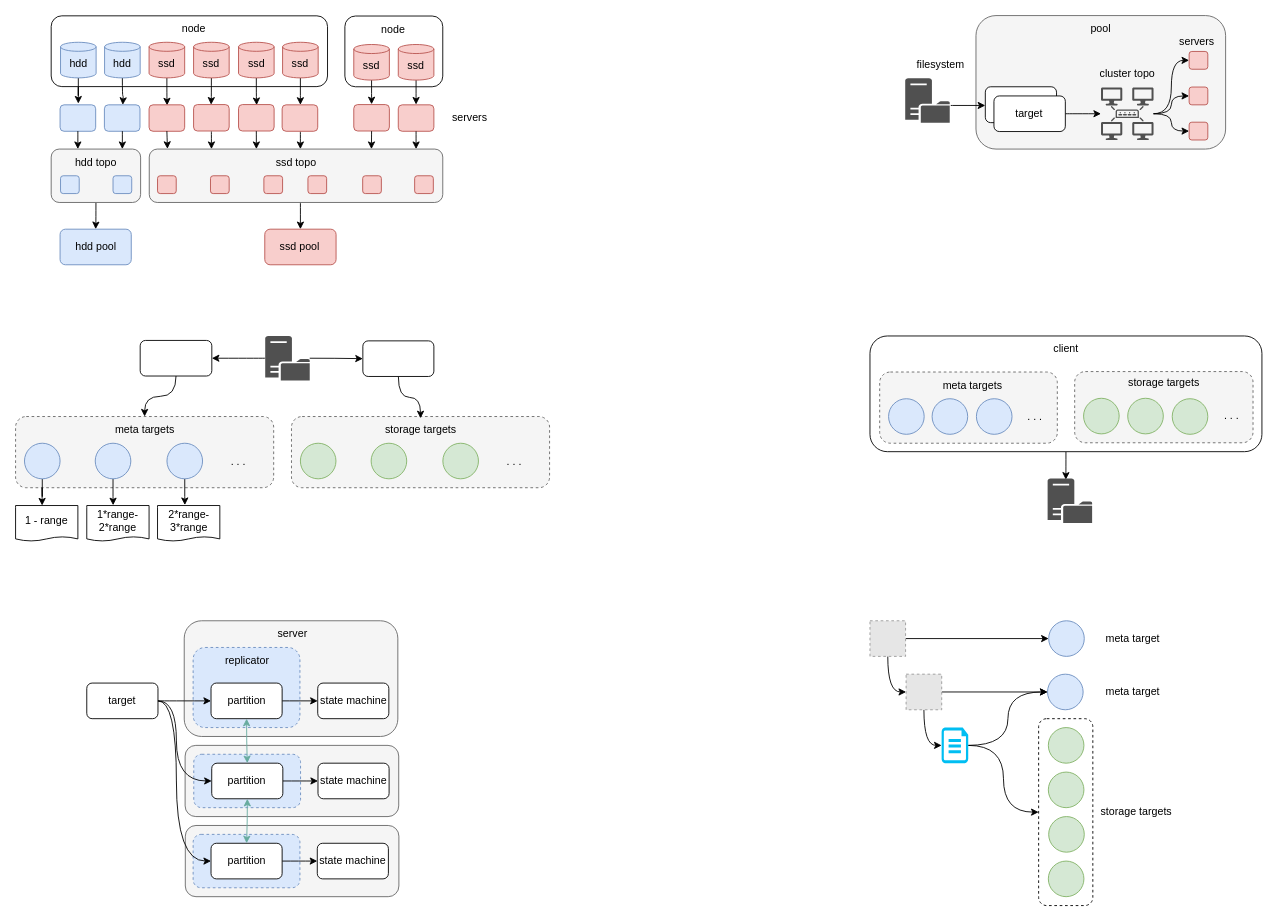
Some shapes in this 1278 by 921 pixel diagram are drawn without their labels. Grey dashed boxes stand in for pictures. Here are the shapes that lost their labels. From the top down, the centre of each, then its label:
the point at 175,358: meta pool
the point at 398,358: storage pool
